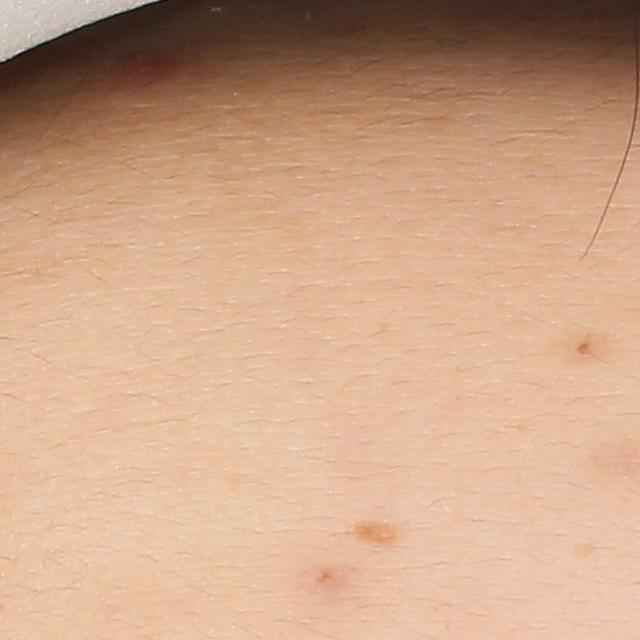melasma: (349, 519, 398, 544)
